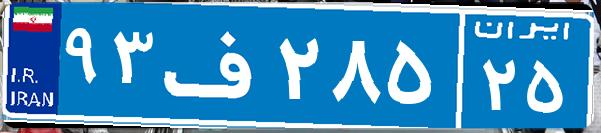2: (273, 28, 330, 110), (475, 38, 525, 113)
3: (110, 28, 158, 105)
5: (385, 28, 445, 110), (525, 38, 570, 115)
8: (330, 28, 385, 110)
9: (57, 26, 110, 107)
ف: (158, 15, 273, 115)
